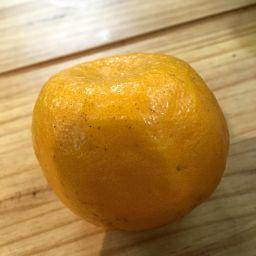Unripe: (33, 53, 232, 229)
